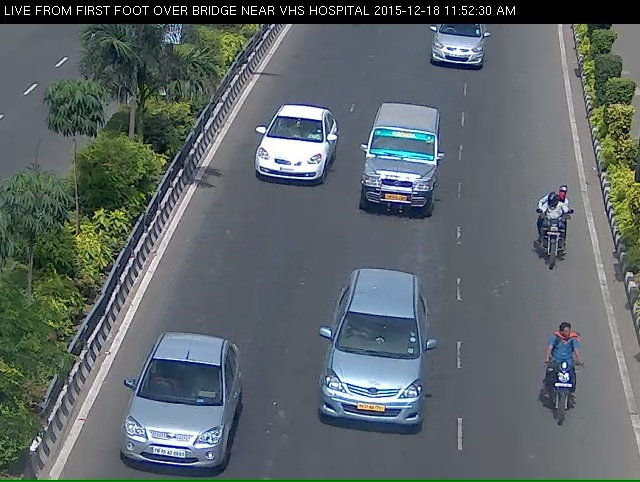Car: (314, 303, 431, 463), (114, 361, 234, 473), (360, 117, 434, 241), (253, 115, 331, 206), (427, 23, 488, 85)
Person: (539, 341, 595, 460), (532, 195, 582, 282)
